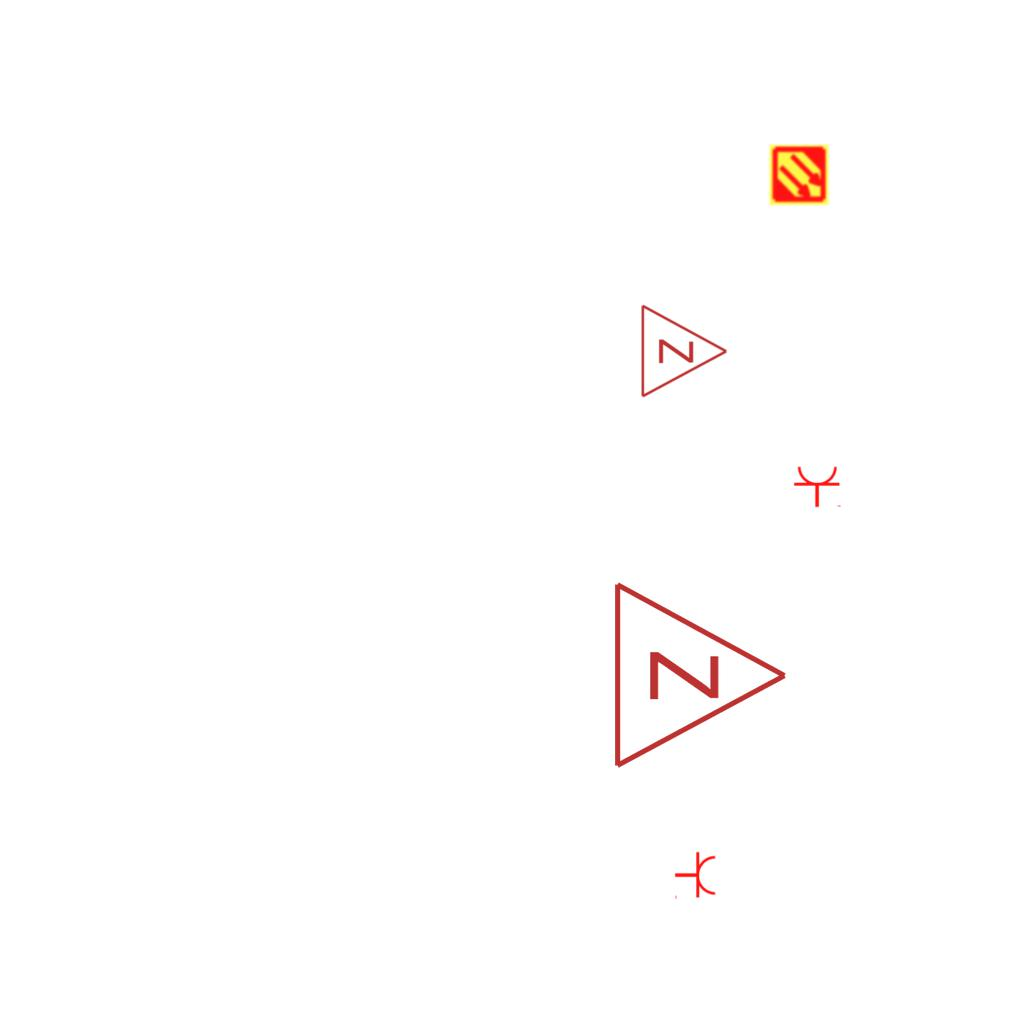ASR_Ansaugrauchmelder: (768, 144, 830, 206)
Schukosteckdose_einfach: (674, 851, 717, 901), (793, 465, 843, 508)
Zimmersignalleuchte: (600, 575, 800, 771), (634, 301, 734, 399)
